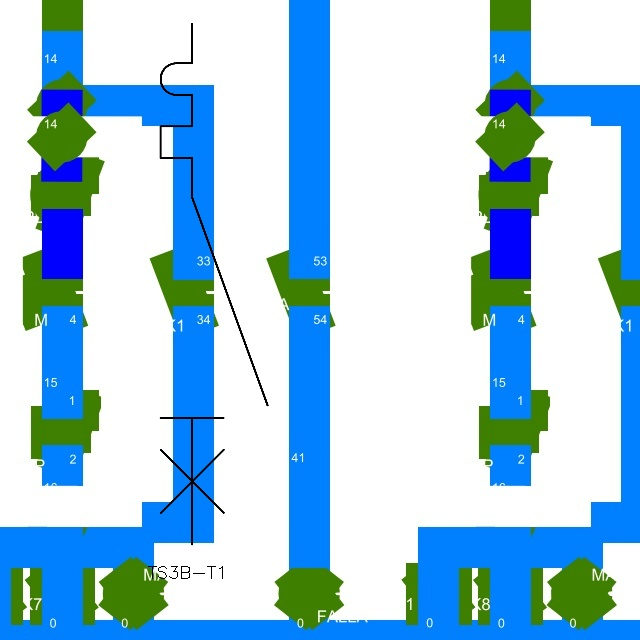interruptor_termomagnetico: (147, 10, 281, 558)
